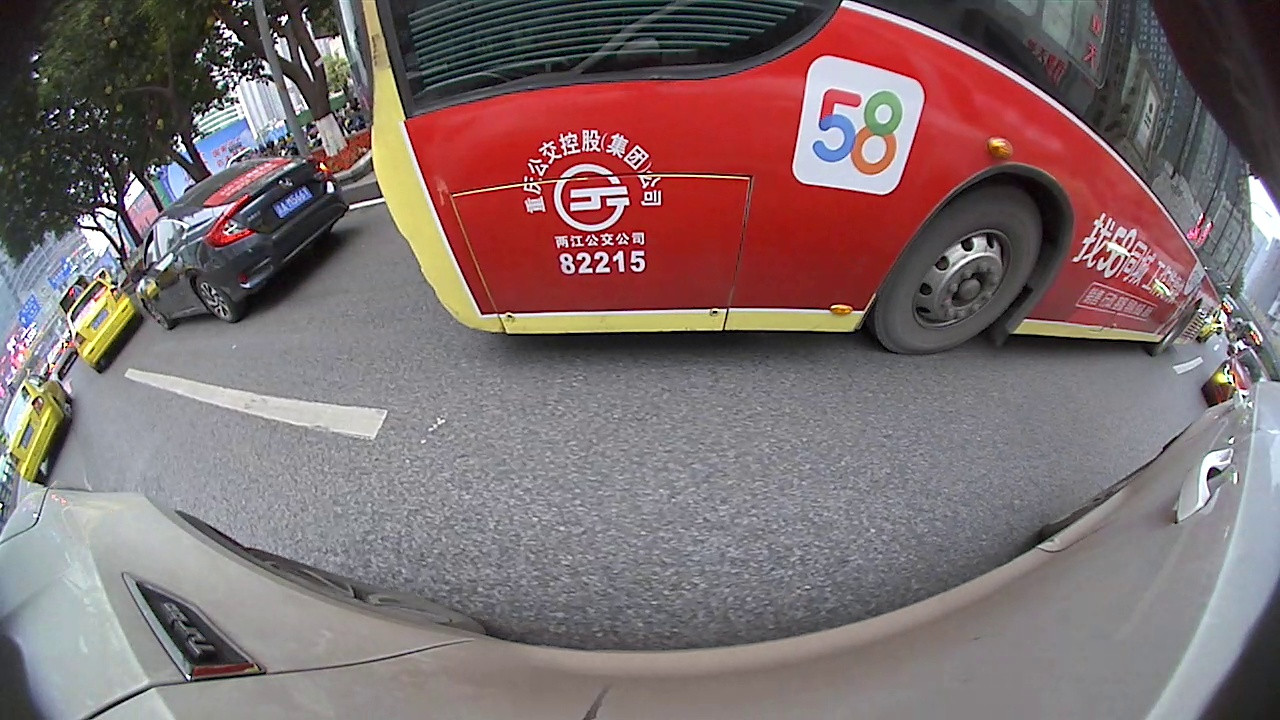car: (583, 55, 823, 157), (178, 94, 322, 215), (478, 50, 652, 120), (928, 149, 1052, 240), (21, 277, 89, 360)
front: (618, 99, 656, 137), (496, 89, 524, 118), (974, 186, 999, 216)
rear: (766, 120, 802, 152)
